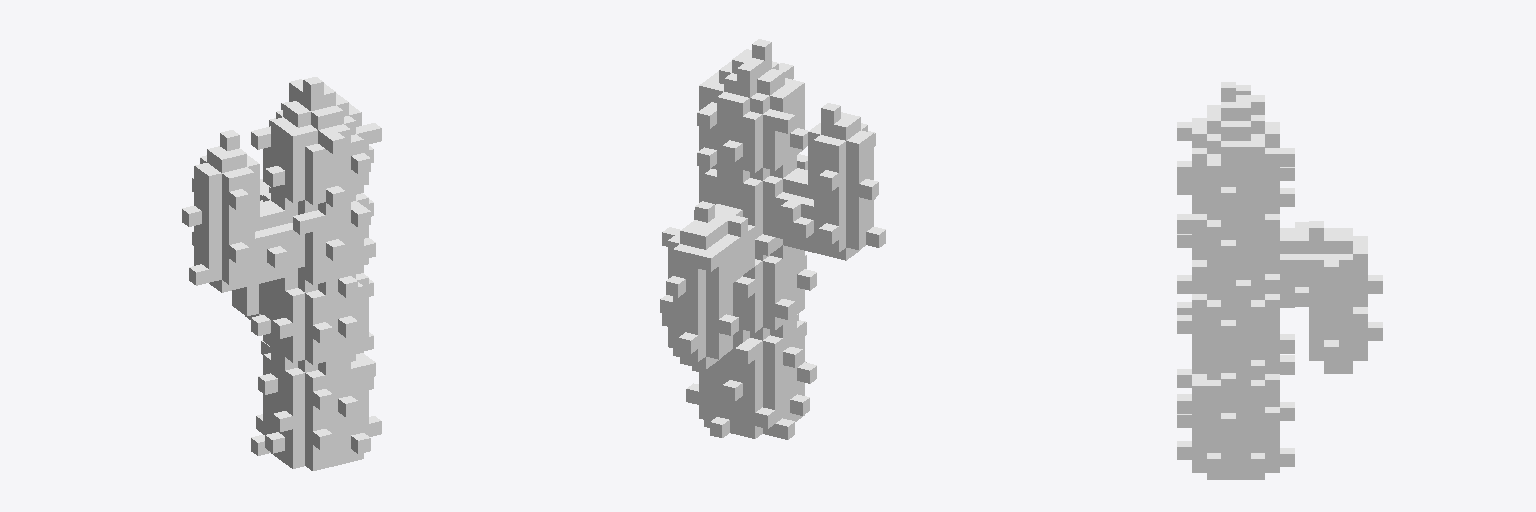
The model's file is Cacto.obj.
3 views of the same model, side by side, from view 1: azimuth 30°, elevation 25°; view 2: azimuth 150°, elevation 25°; view 3: azimuth 270°, elevation 25° (orthographic).
Visible parts, largest first — view 1: object 1; view 2: object 1; view 3: object 1.
Part boxes in pixels (left/top/right/bottom): object 1: left=182, top=77, right=381, bottom=470; object 1: left=660, top=39, right=885, bottom=439; object 1: left=1177, top=82, right=1382, bottom=479.
Bounding box in the file's own units: 1.4 × 2.8 × 1.4.